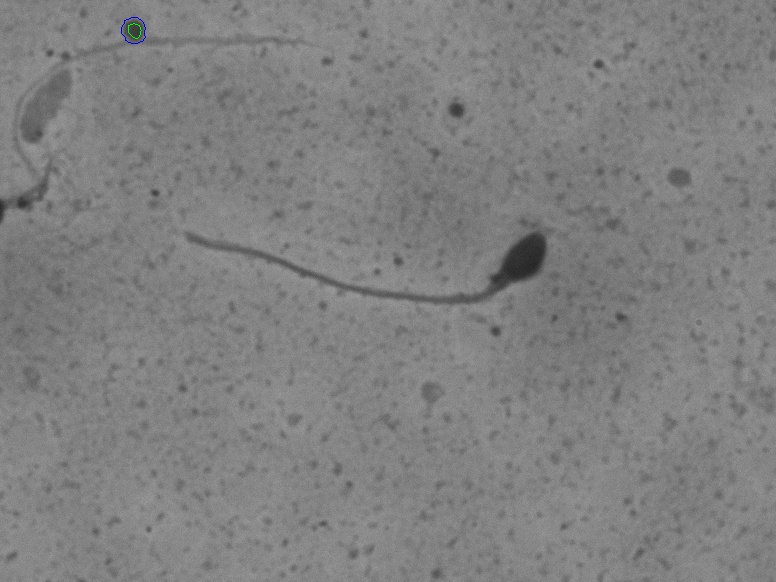Abnormal: (158, 139, 591, 374)
